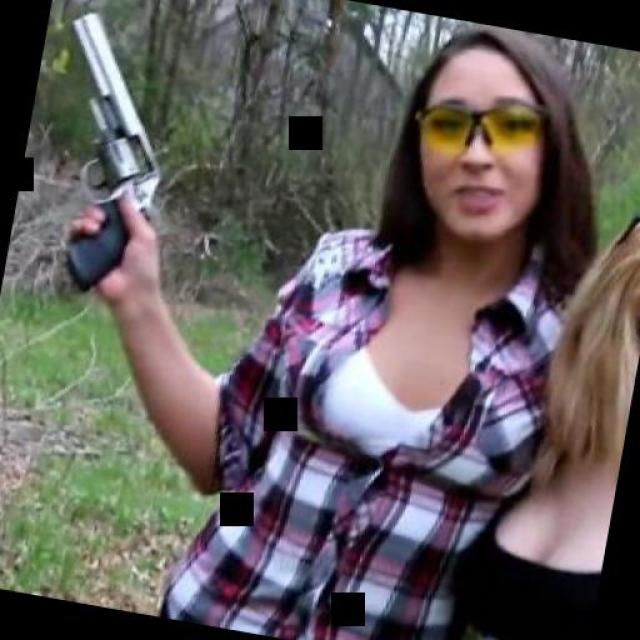gun: (13, 4, 208, 298)
